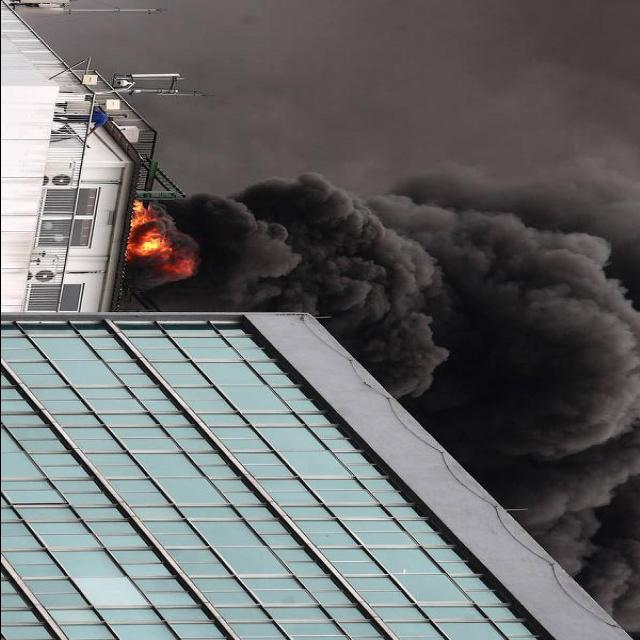Fire: (126, 197, 189, 272)
